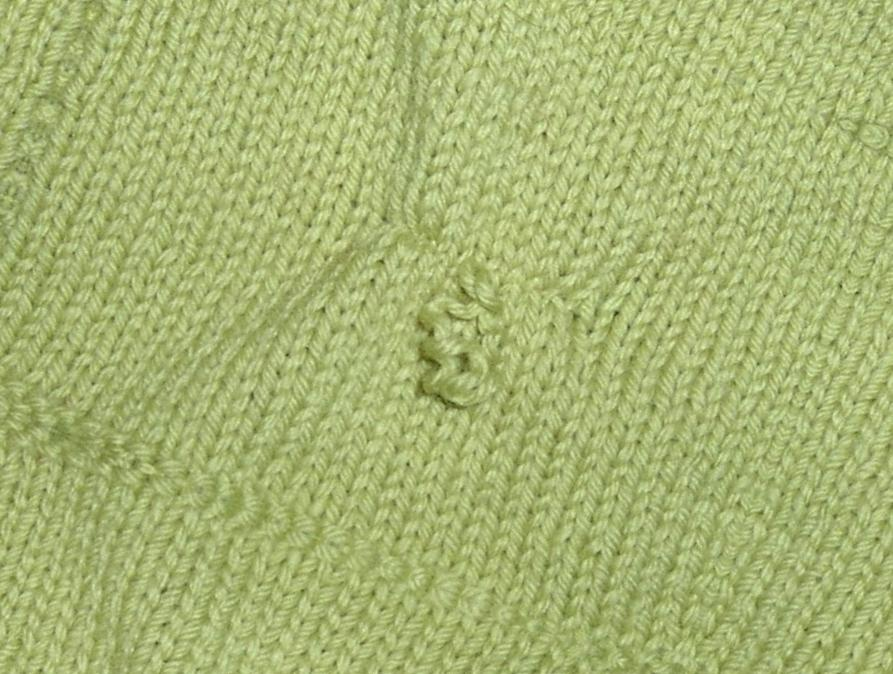knot: (405, 264, 510, 420)
